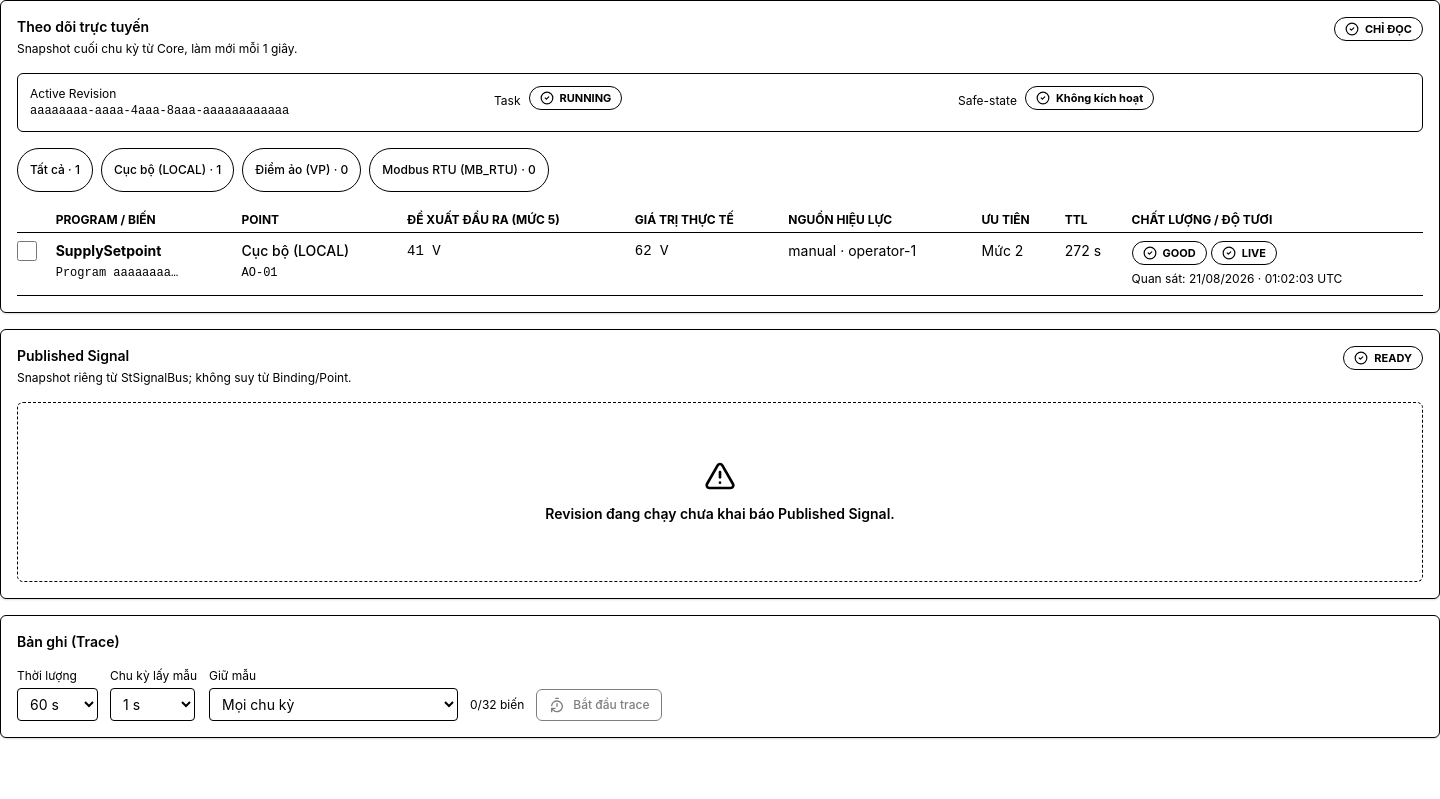
Test: WatchTab — T59-504 › phiên dừng vì tuple trôi nói rõ lý do, không chỉ SOURCE_UNAVAILABLE
Click the checkbox named "Trace SupplySetpoint" at [27, 251], box [17, 241, 37, 261]
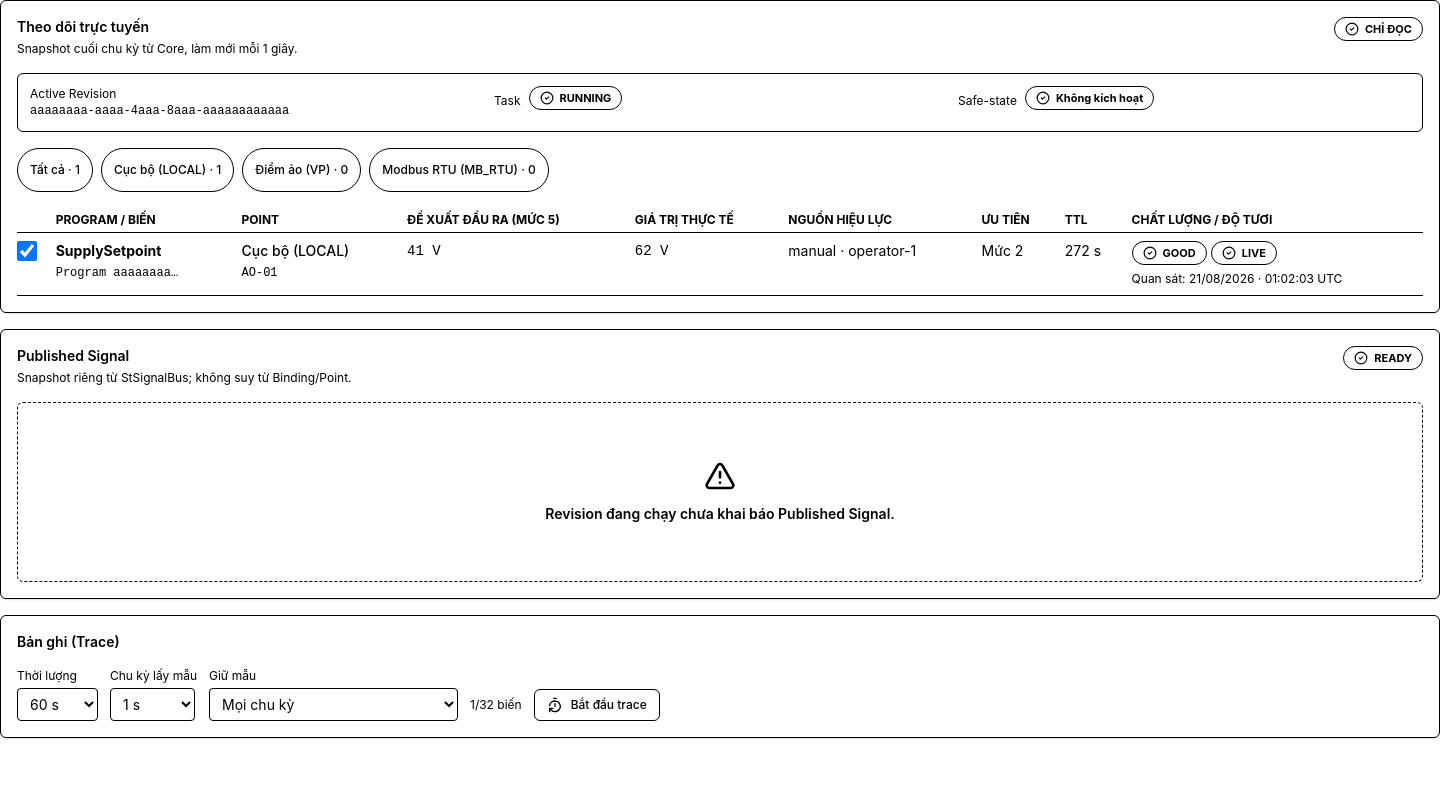
Click the button "Bắt đầu trace" at [597, 705], box [534, 689, 660, 721]
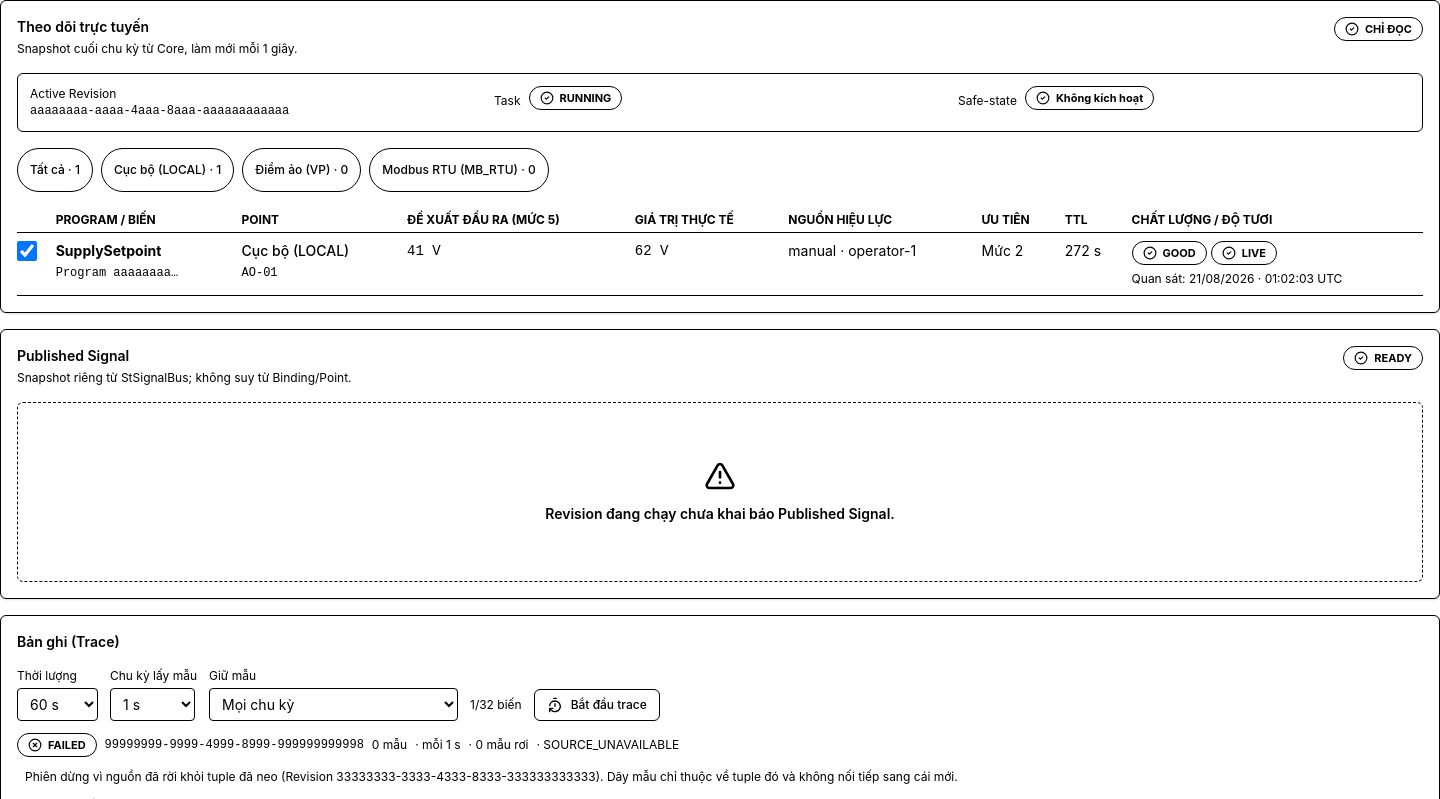
Expected: the text "33333333-3333-4333-8333-333333333333" is shown, [25, 769, 958, 784]
